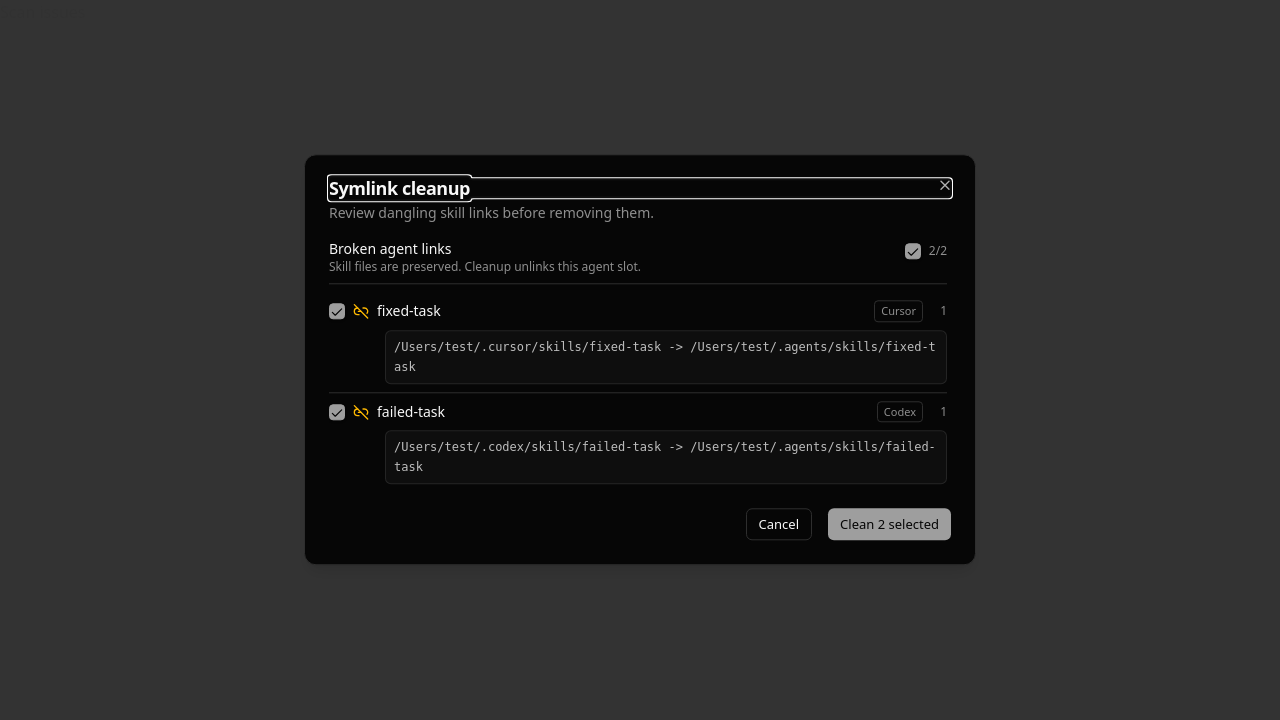
Scenario: SymlinkCleanupDialog › keeps only failed rows selected after partial unlink failure refreshes the plan
The image size is (1280, 720).
Step 1. Click the button "Clean 2 selected" → (890, 525), box [828,509,951,541]
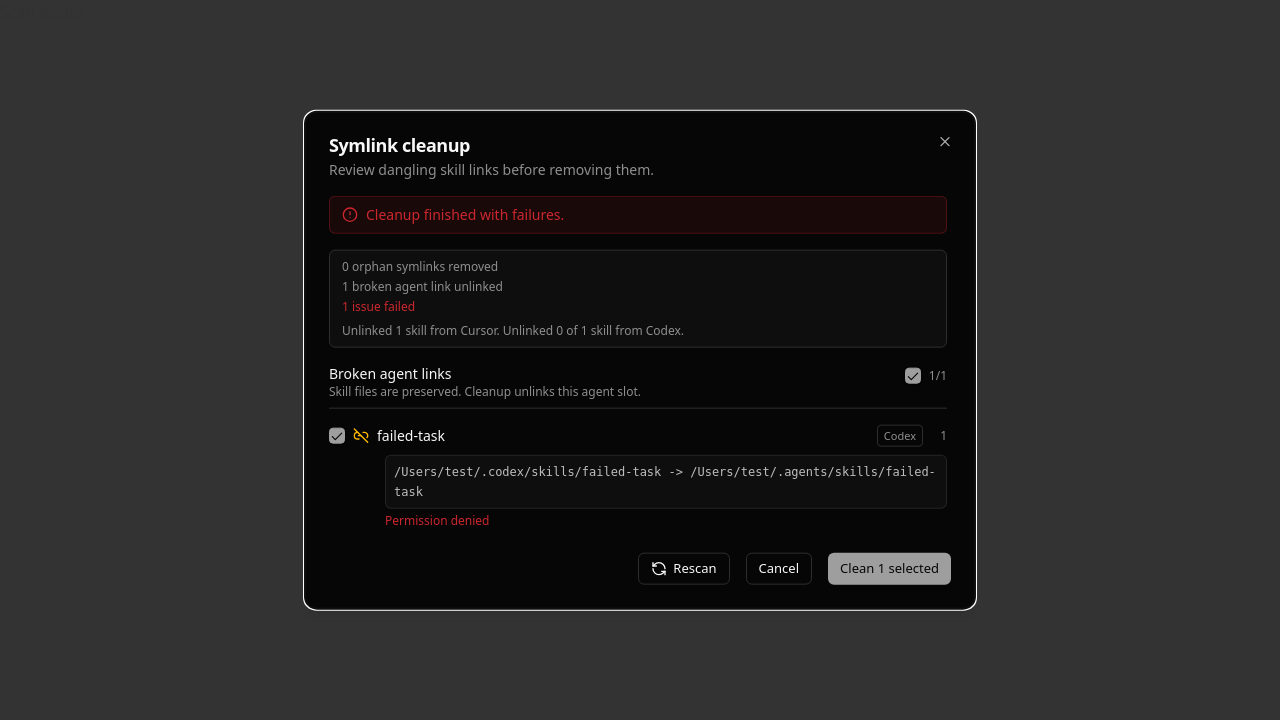
expect the text "failed-task" is shown: met, box [377,426,445,444]
expect the text "Permission denied" is shown: met, box [385,511,490,528]
